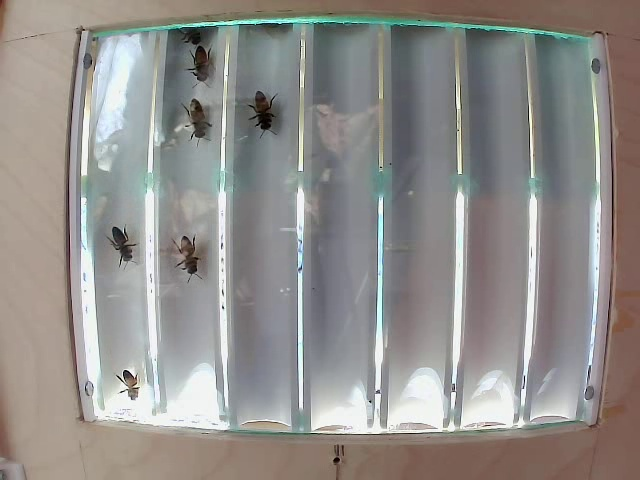bee: (160, 223, 208, 280), (184, 46, 228, 90), (106, 217, 142, 270), (248, 88, 281, 133), (180, 117, 222, 150)
